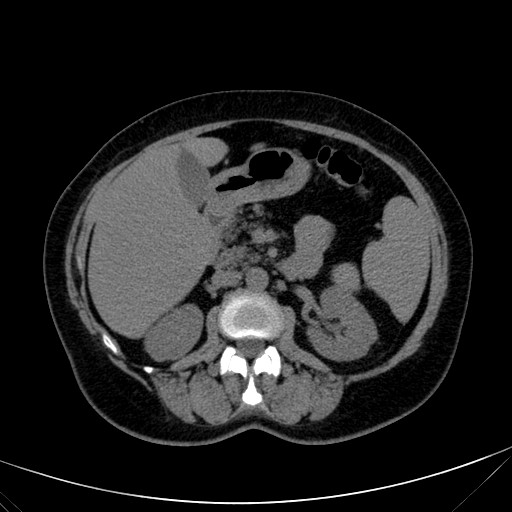vesicula: (174, 144, 211, 205)
